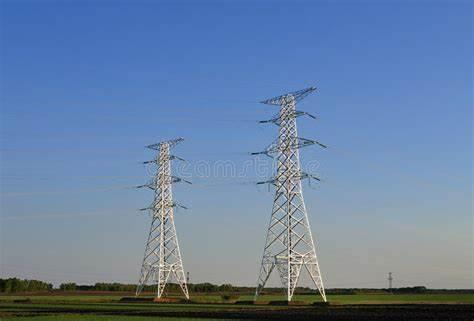power_tower: (245, 86, 337, 306), (133, 133, 201, 304)
